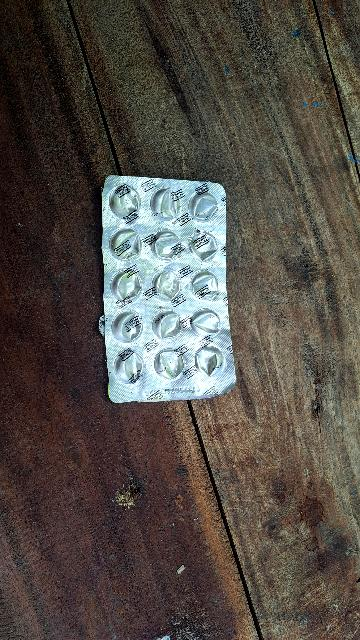medicine: (83, 162, 257, 410)
